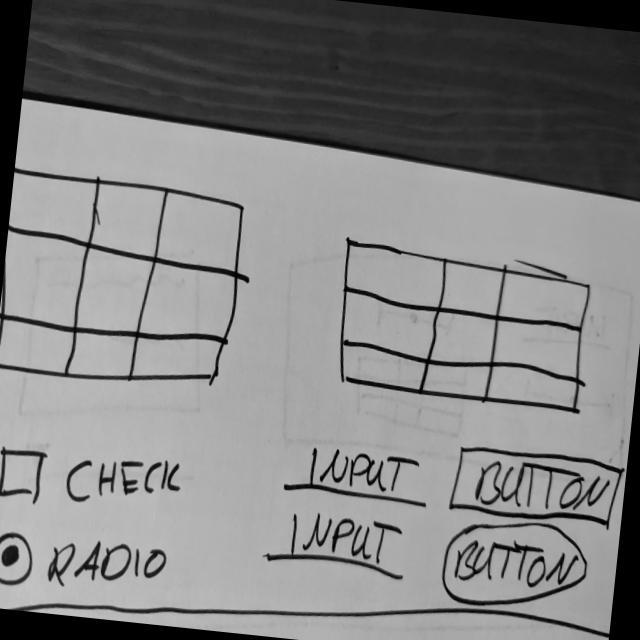button: (447, 442, 628, 534), (439, 512, 594, 619)
checkbox: (1, 436, 191, 523)
input: (263, 505, 416, 584), (280, 438, 434, 513)
radio: (1, 527, 173, 604)
table: (1, 162, 252, 399), (328, 234, 597, 421)
